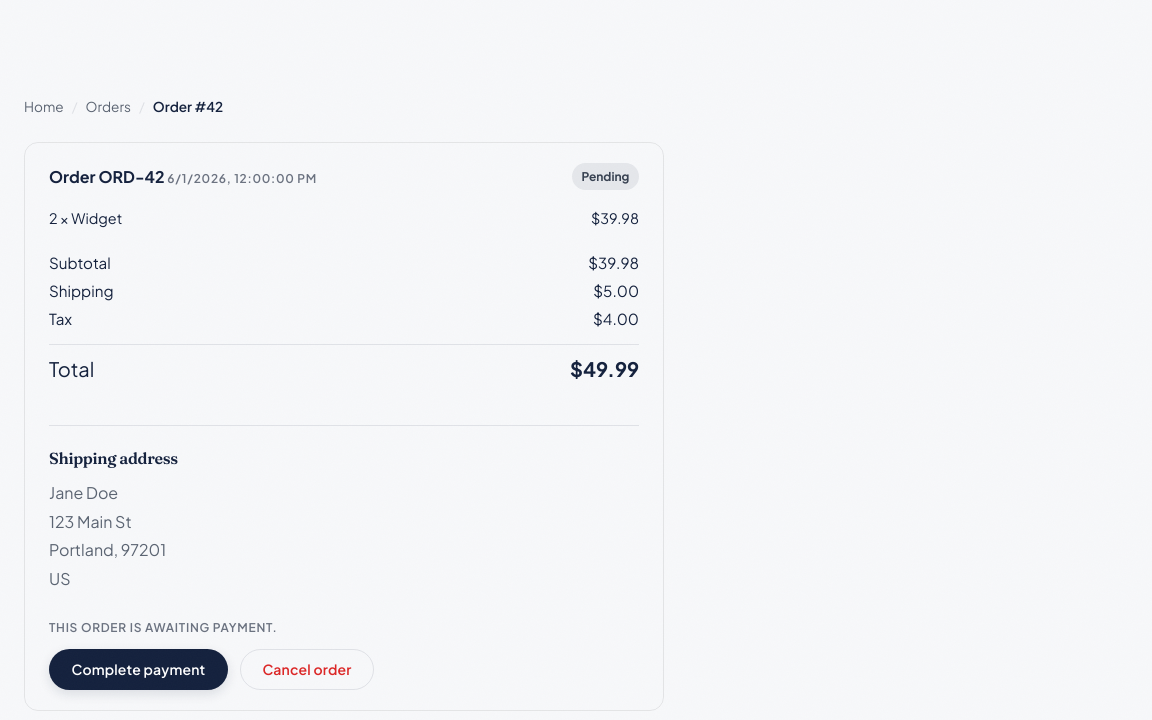
it: OrderDetailPage › cancels order and updates state on confirm
The width and height of the screenshot is (1152, 720).
Expected: the text "Order ORD-42" is shown, [49,166,164,186]
Click the button "Cancel order": (307, 670) [240,649,374,690]
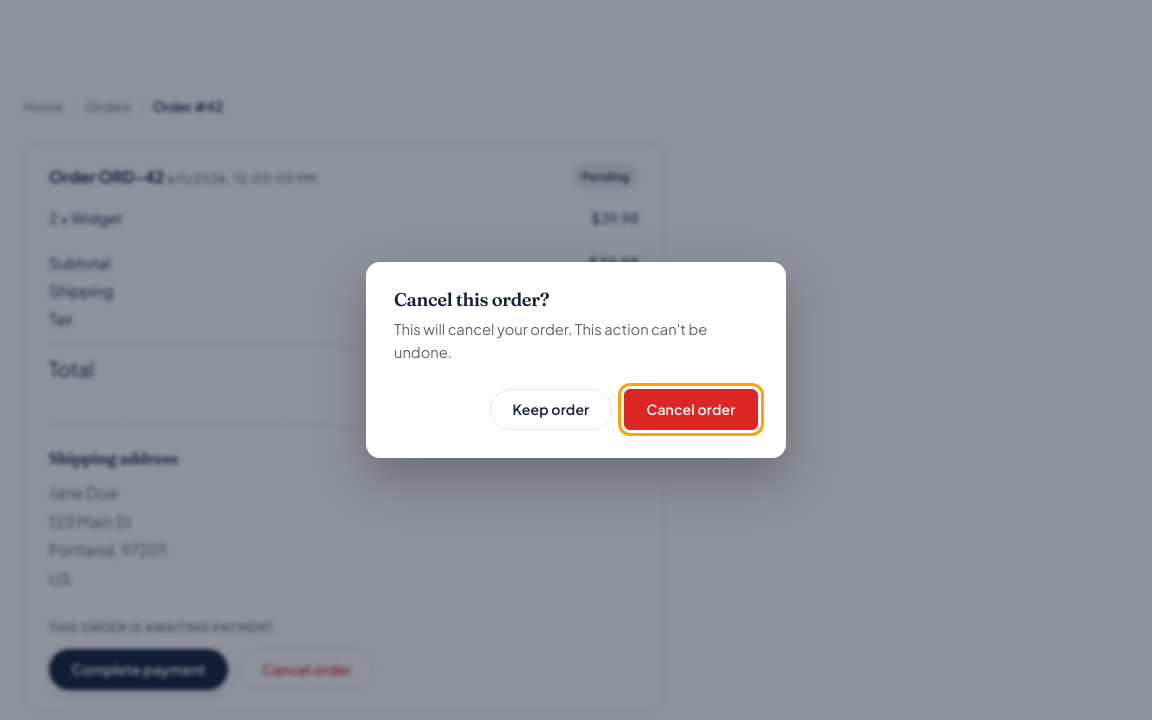
Click the button "Cancel order": (691, 410) [624,389,758,430]
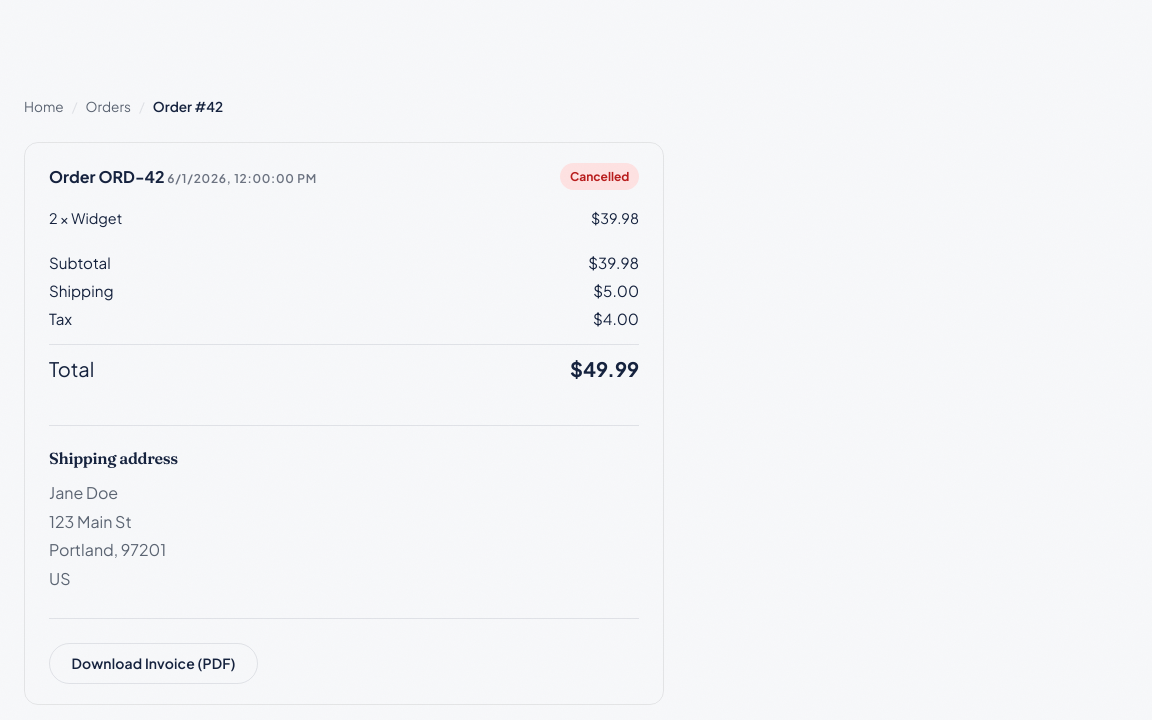
Expected: the text "cancelled" is shown, [560,163,639,190]
